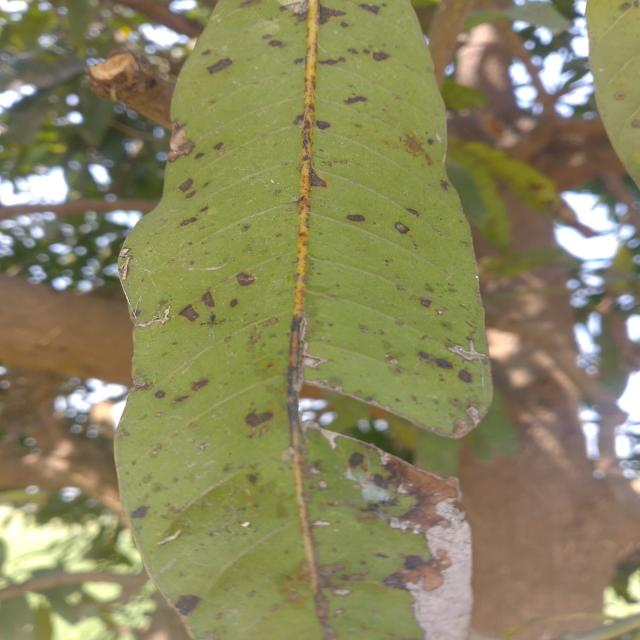Anthracnose: (302, 31, 424, 153), (176, 569, 216, 627), (199, 61, 250, 71), (244, 411, 272, 428), (180, 306, 201, 326), (345, 212, 370, 227), (180, 180, 193, 195)
Powdery Mildew: (430, 526, 481, 564), (425, 594, 467, 638), (449, 343, 481, 361), (361, 484, 388, 504)
black die: (230, 275, 267, 288)
